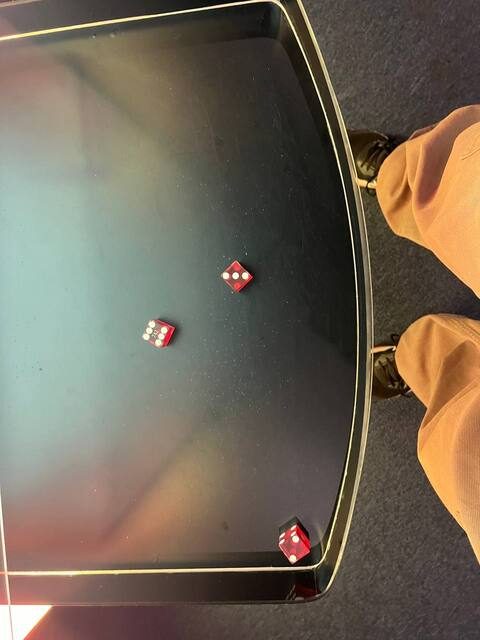six: (139, 316, 170, 349)
three: (218, 257, 257, 294)
two: (283, 534, 311, 567)
